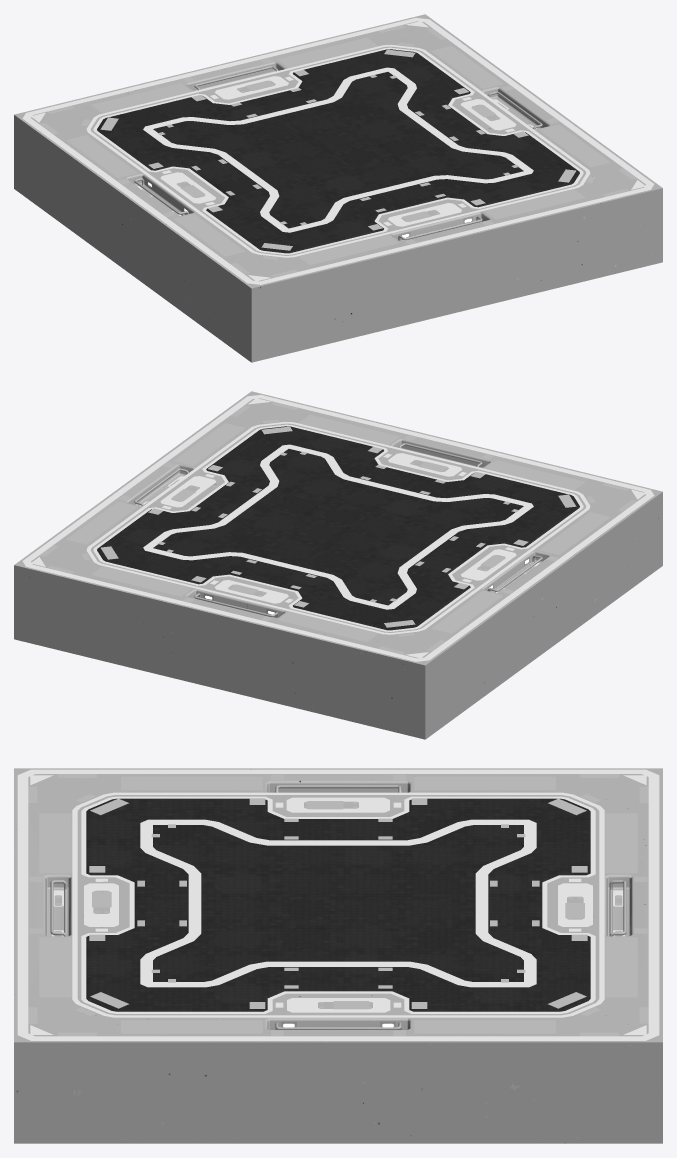
File: SM_Modular_Merged.fbx
The picture shows the model from 3 angles, top to bottom: view 1: azimuth 30°, elevation 25°; view 2: azimuth 150°, elevation 25°; view 3: azimuth 270°, elevation 25°; orthographic projection. The views are drawn at different scales.
Parts seen in each view (by area): view 1: SM_Modular_Merged_LOD0; view 2: SM_Modular_Merged_LOD0; view 3: SM_Modular_Merged_LOD0.
Part boxes in pixels (x1,y1,x2,y2): SM_Modular_Merged_LOD0: (14,14,662,362); SM_Modular_Merged_LOD0: (14,391,662,739); SM_Modular_Merged_LOD0: (14,768,662,1143).
Bounding box in the file's own units: 500 × 500 × 87.69.
